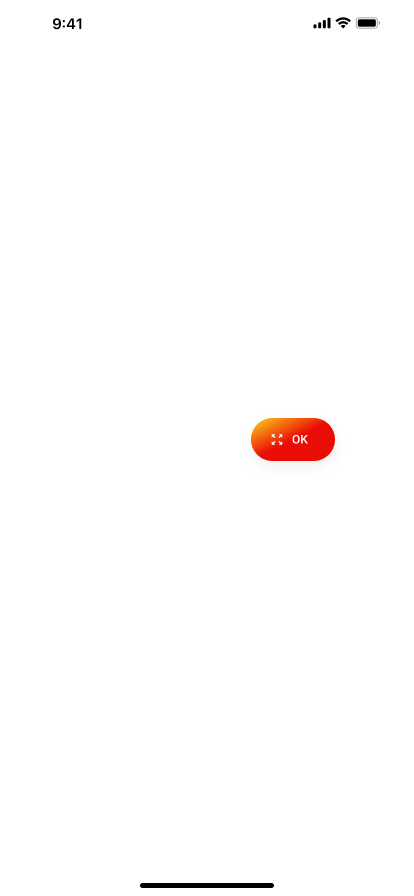Buttons: (236, 409, 350, 482)
Home Indicator: (0, 862, 414, 896)
Status Bar: (0, 0, 414, 44)
